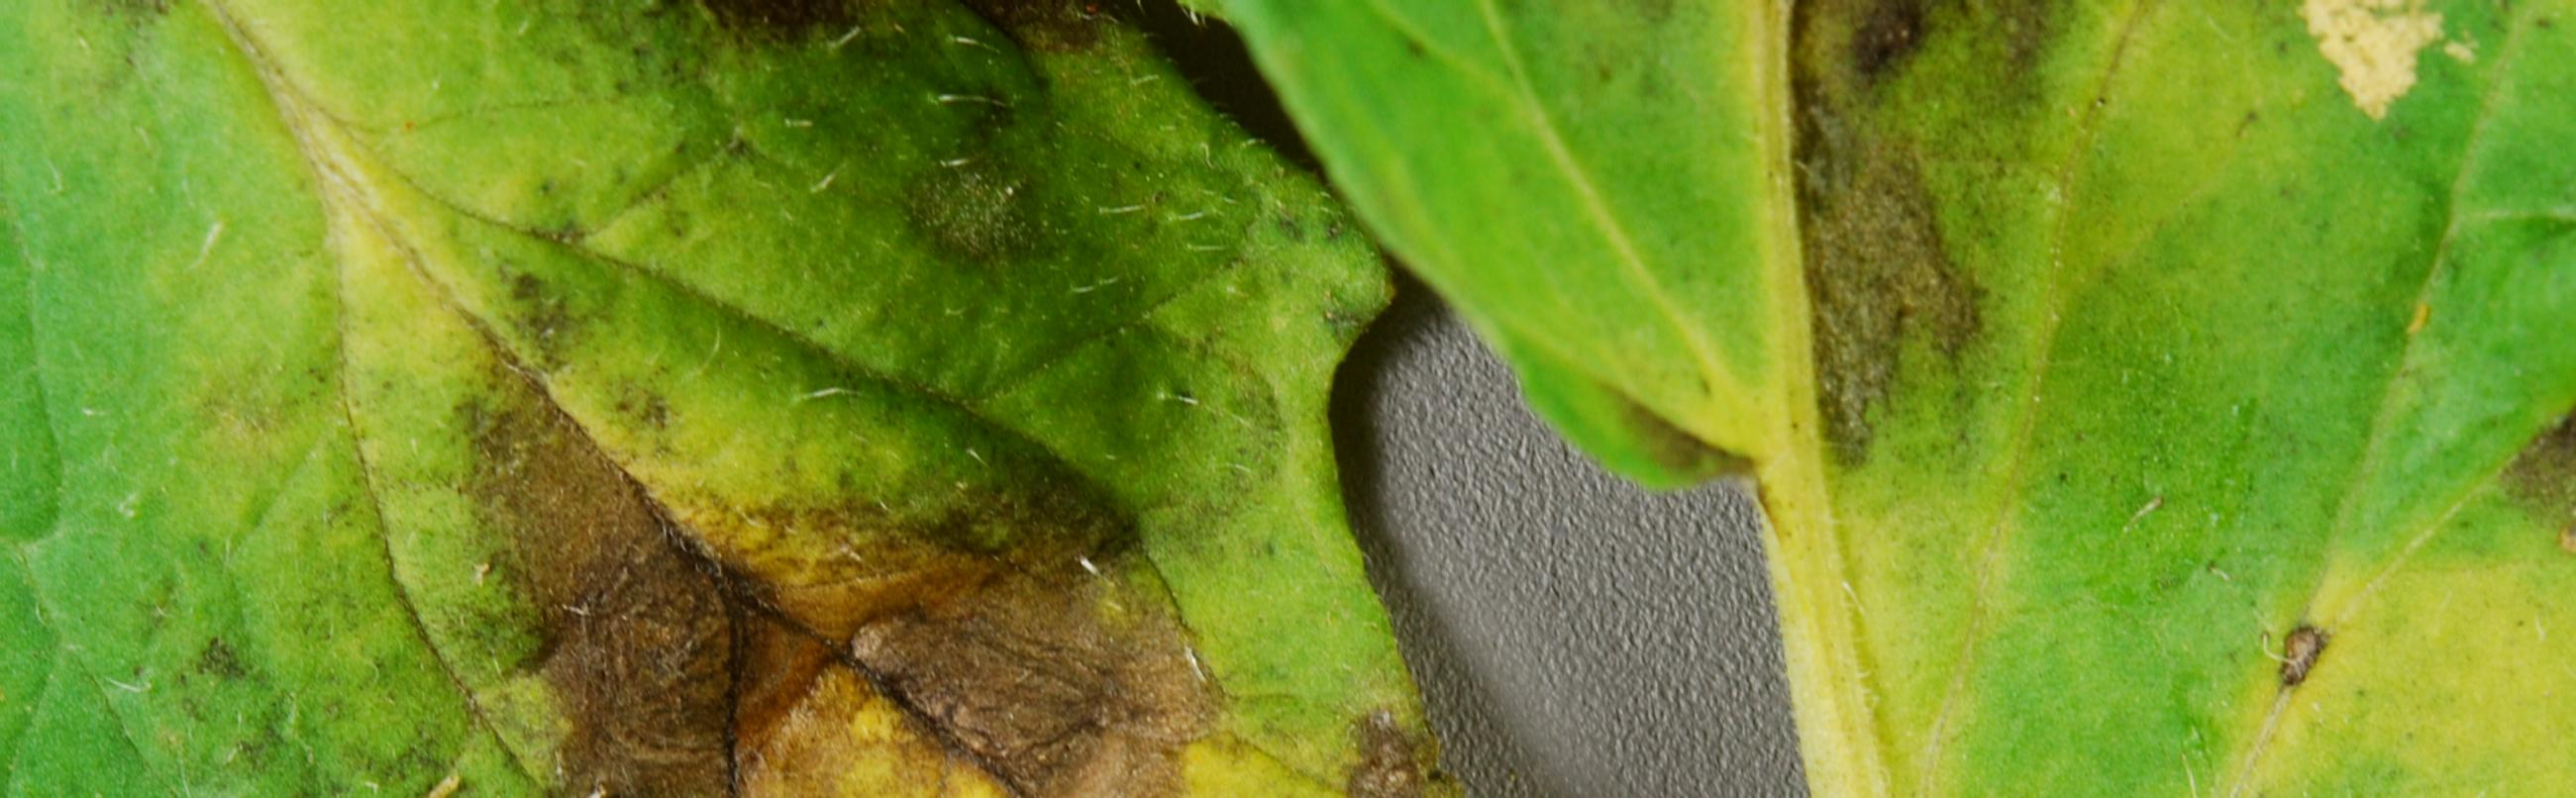Tomato Early blight leaf: (0, 0, 1676, 798), (1769, 0, 2576, 798)
